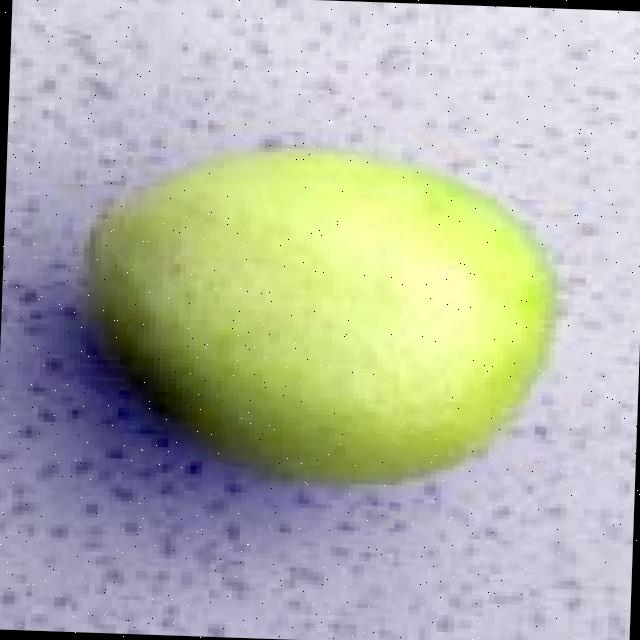Good_Lime-10-21-days: (80, 146, 561, 488)
